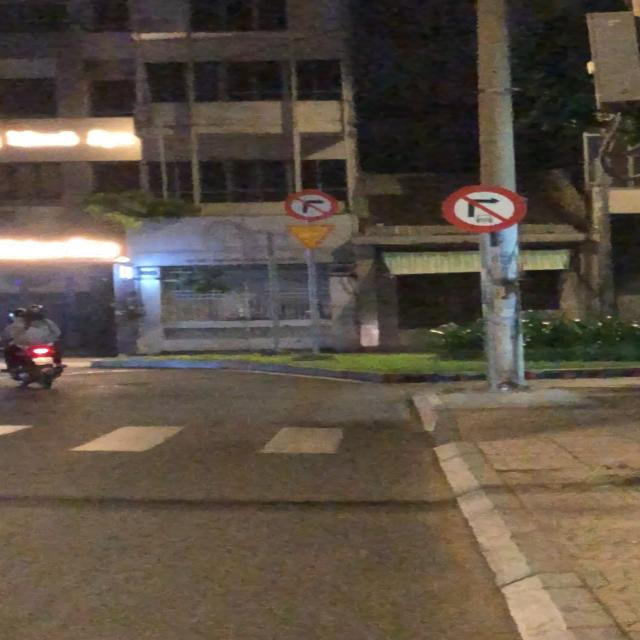Bien bao cam re phai: (282, 189, 340, 223)
Bien bao cam xe o to re phai: (439, 185, 532, 233)
Bien bao giao nhau voi duong uu tien: (282, 223, 340, 252)
